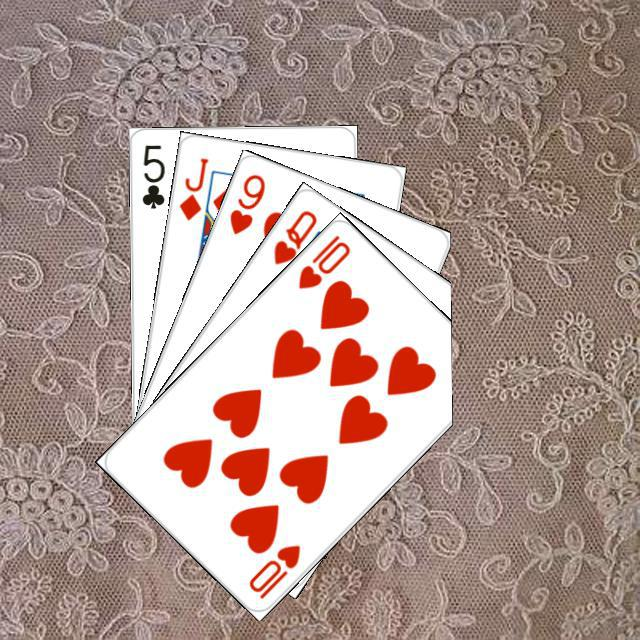10h: (293, 230, 352, 291), (244, 539, 302, 601)
5c: (137, 139, 166, 211)
9h: (224, 169, 267, 237)
Jd: (174, 152, 211, 222)
Qh: (268, 205, 319, 267)
